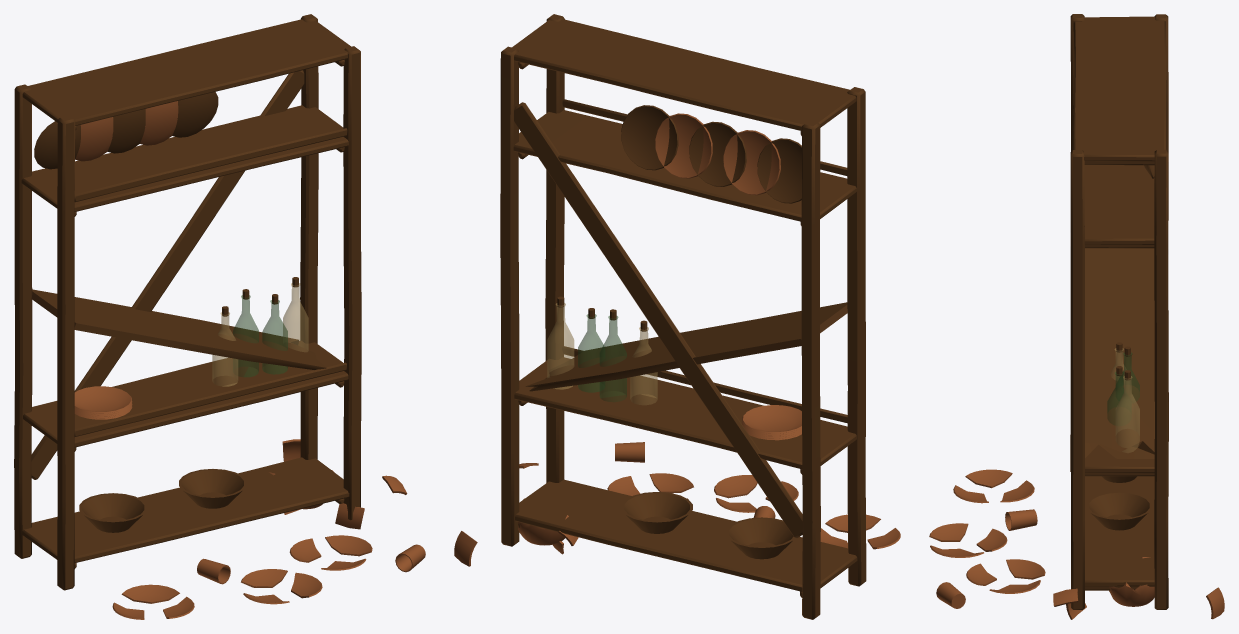
The model's file is regal_kaputt.glb.
3 renders of one model, left to right at view 1: azimuth 30°, elevation 25°; view 2: azimuth 150°, elevation 25°; view 3: azimuth 270°, elevation 25°, orthographic. The views are drawn at different scales.
Visible parts, largest first — view 1: regal_kaputt; view 2: regal_kaputt; view 3: regal_kaputt.
Boxes of the visible parts, left/top/right/bottom form: regal_kaputt: left=14, top=14, right=425, bottom=619; regal_kaputt: left=454, top=14, right=900, bottom=619; regal_kaputt: left=929, top=14, right=1224, bottom=619.
Bounding box in the file's own units: 1.35 × 1.84 × 1.06.
